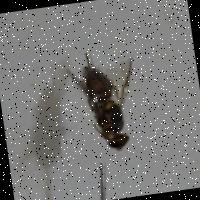Oriental-fruit-fly: (48, 45, 152, 167)
